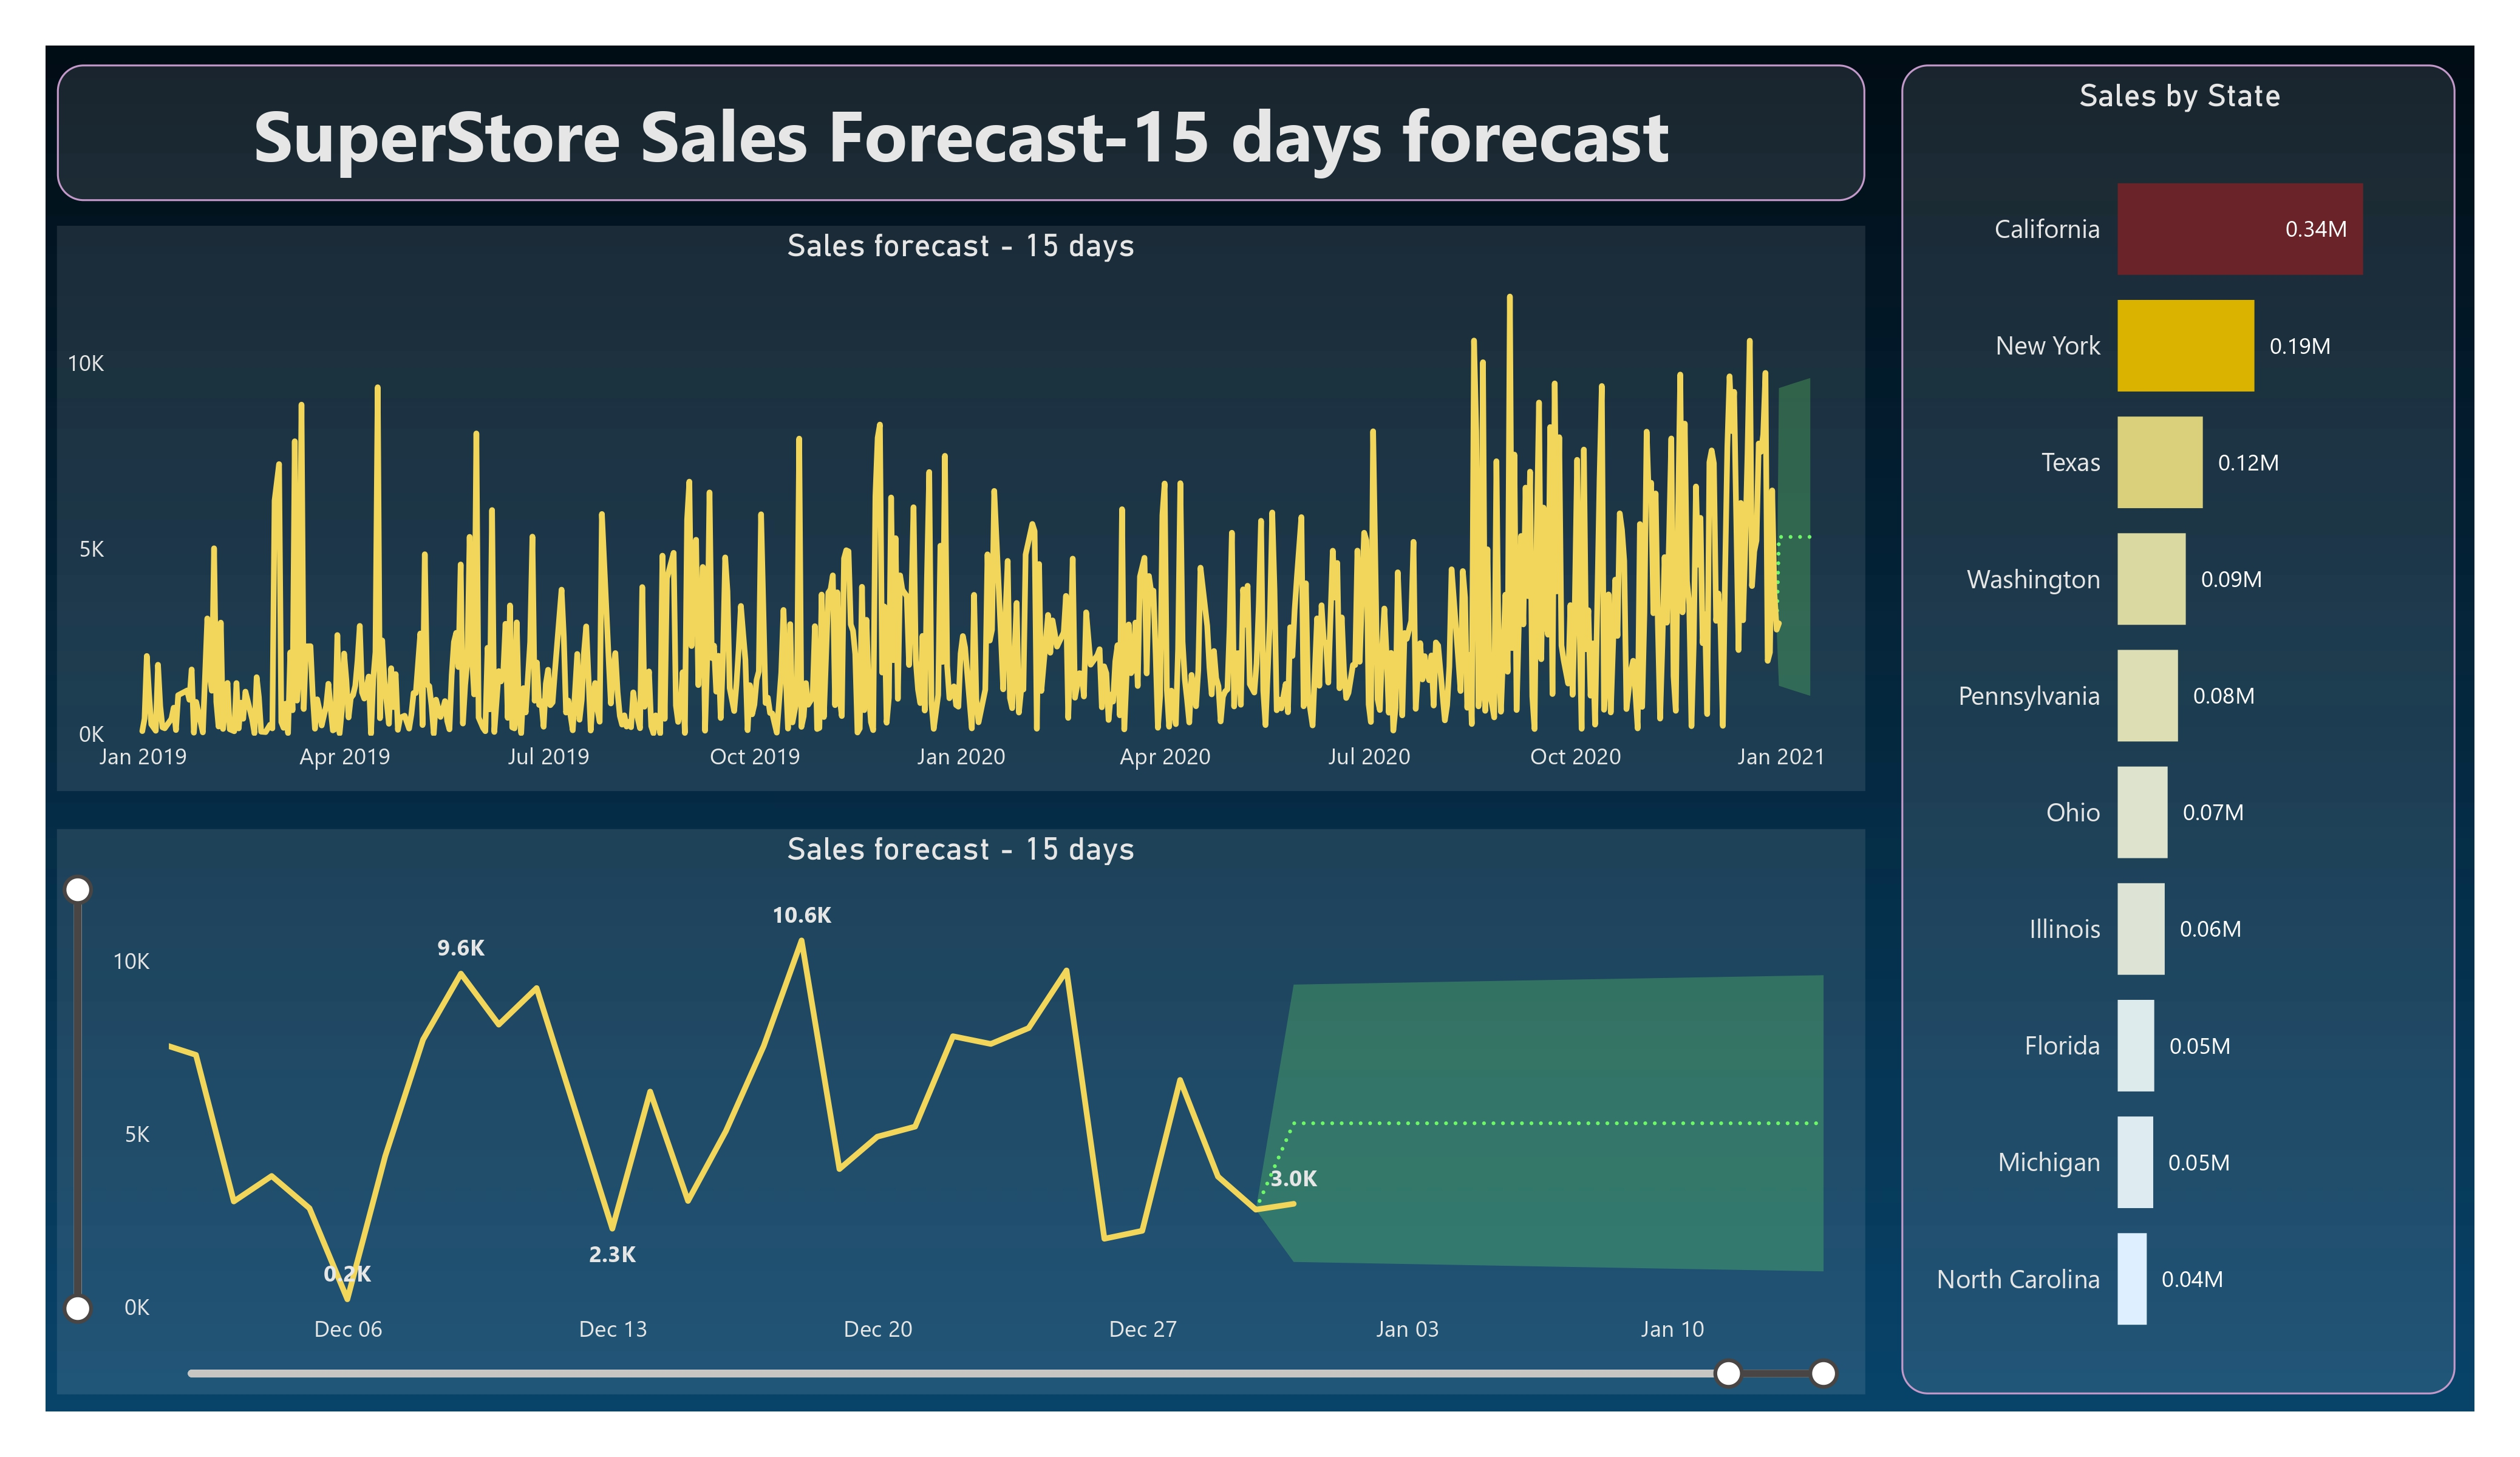

This screenshot's page, from the dashboard's own definition file:
{"tool":"powerbi","page":{"name":"Forecast","canvas":[1280,720],"ordinal":1},"visuals":[{"type":"lineChart","title":"Sales forecast - 15 days","fields":{"Y":["Sum(SuperStore_Sales_Dataset.Sales)"],"Category":["SuperStore_Sales_Dataset.Order Date"]},"box":[6,95.3,953.1,298],"z":0},{"type":"clusteredBarChart","title":"Sales by State","fields":{"Category":["SuperStore_Sales_Dataset.State"],"Y":["Sum(SuperStore_Sales_Dataset.Sales)"]},"box":[978.4,9.7,292,700.9],"z":1000},{"type":"lineChart","title":"Sales forecast - 15 days","fields":{"Y":["Sum(SuperStore_Sales_Dataset.Sales)"],"Category":["SuperStore_Sales_Dataset.Order Date"]},"box":[6,412.6,953.1,298],"z":2000},{"type":"textbox","box":[6,9.7,953.1,72.4],"z":3000}]}

Visuals, with their boxes in screenshot pixels (x1, y1, x2, y2):
"Sales forecast - 15 days" lineChart: [left=57, top=226, right=1865, bottom=792]
"Sales by State" clusteredBarChart: [left=1902, top=64, right=2456, bottom=1394]
"Sales forecast - 15 days" lineChart: [left=57, top=828, right=1865, bottom=1394]
textbox: [left=57, top=64, right=1865, bottom=202]
